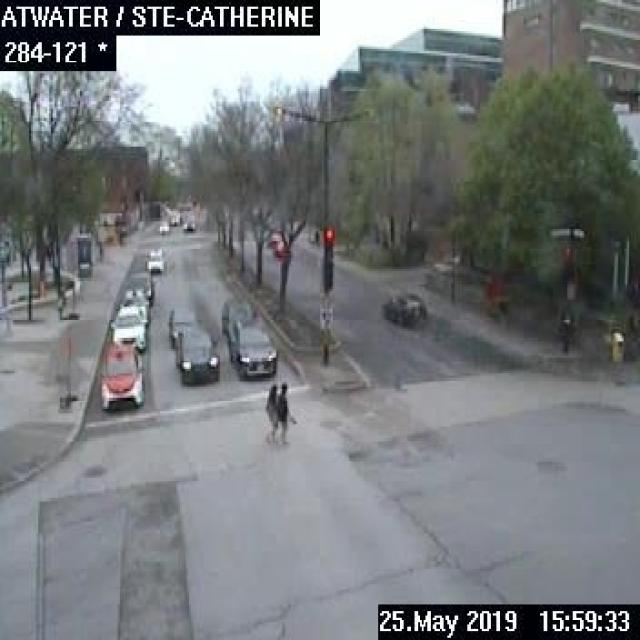pedestrian: (277, 381, 296, 443), (264, 378, 278, 441)
vehicle: (96, 344, 142, 411), (228, 315, 275, 375), (180, 328, 219, 384), (380, 288, 425, 327), (107, 304, 145, 350), (167, 306, 200, 347), (220, 297, 256, 334), (125, 272, 154, 305), (144, 246, 162, 272), (264, 233, 282, 258), (180, 212, 194, 230), (156, 221, 168, 232), (168, 212, 178, 224)
